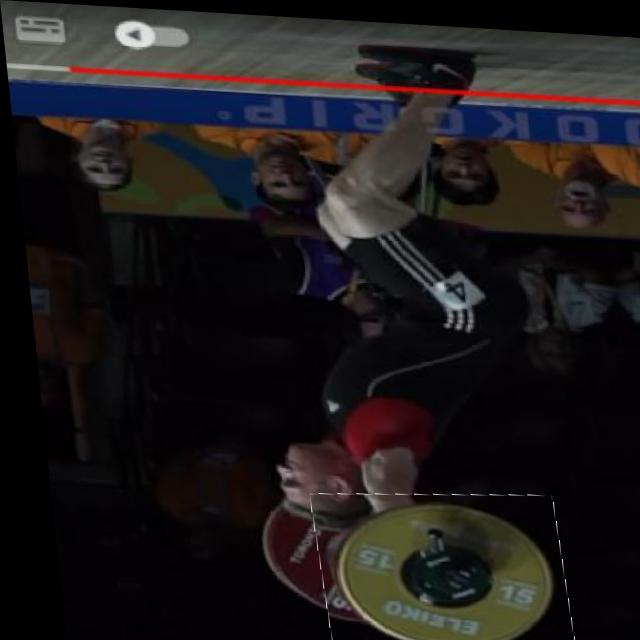barbell: (301, 482, 563, 640)
